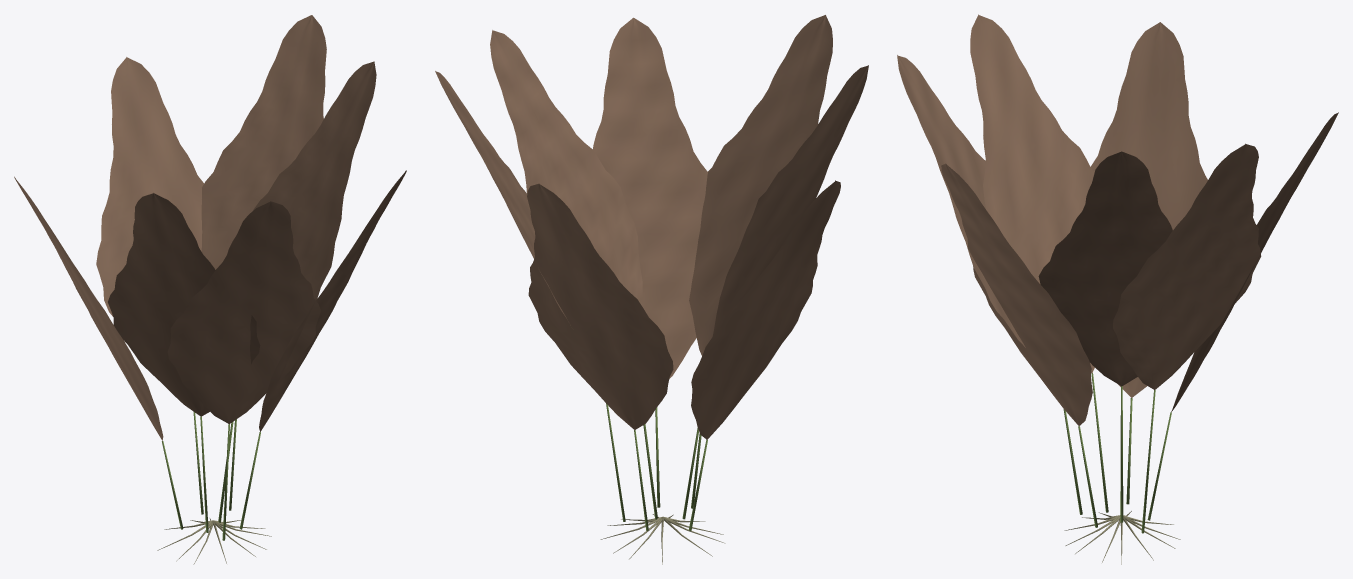
The model's file is lotus-desktop.glb.
3 renders of one model, left to right at view 1: azimuth 30°, elevation 25°; view 2: azimuth 150°, elevation 25°; view 3: azimuth 270°, elevation 25°, orthographic. The views are drawn at different scales.
Visible parts, largest first — view 1: blade, petiole, anchoring-root; view 2: blade, petiole, anchoring-root; view 3: blade, petiole, anchoring-root.
Boxes of the visible parts, left/top/right/bottom form: blade: left=14, top=15, right=406, bottom=440; petiole: left=162, top=411, right=260, bottom=540; anchoring-root: left=157, top=518, right=271, bottom=564; blade: left=435, top=15, right=868, bottom=439; petiole: left=606, top=403, right=707, bottom=530; anchoring-root: left=600, top=514, right=725, bottom=564; blade: left=897, top=14, right=1338, bottom=425; petiole: left=1063, top=373, right=1171, bottom=533; anchoring-root: left=1064, top=511, right=1180, bottom=564.
Size of the model in its own units: 0.7114 by 0.8884 by 0.747.
